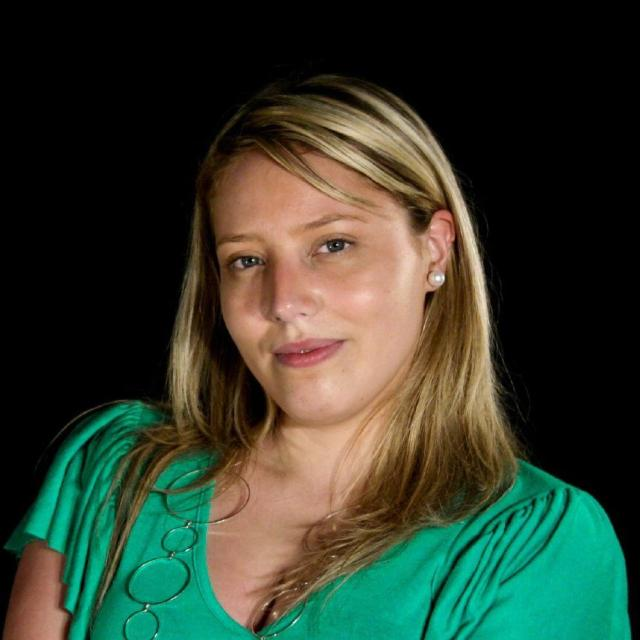no-glass: (224, 227, 355, 276)
